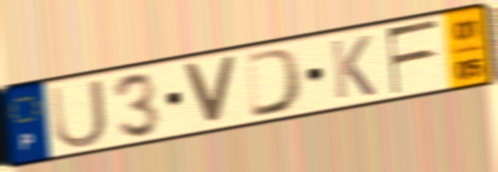3: (110, 69, 163, 141)
D: (243, 45, 307, 121)
F: (383, 17, 442, 98)
K: (328, 33, 379, 102)
U: (47, 76, 110, 152)
V: (179, 54, 240, 126)
